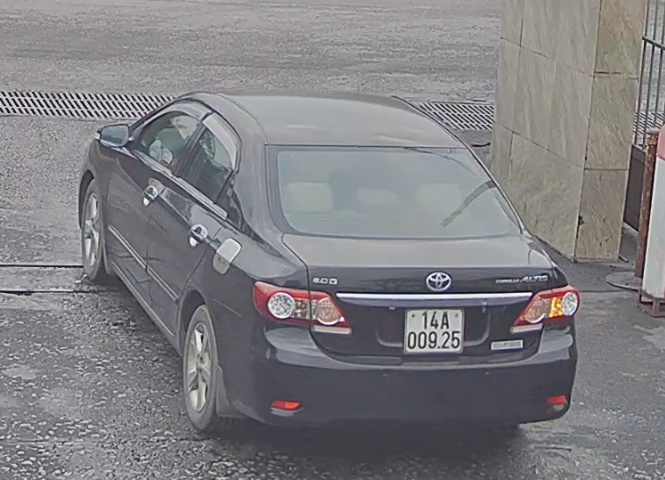vehicle plate: (400, 305, 472, 355)
